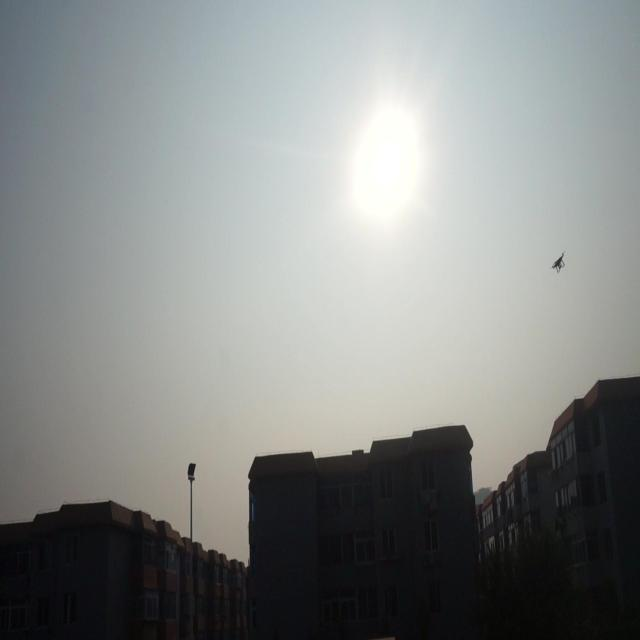drone: (551, 249, 566, 274)
